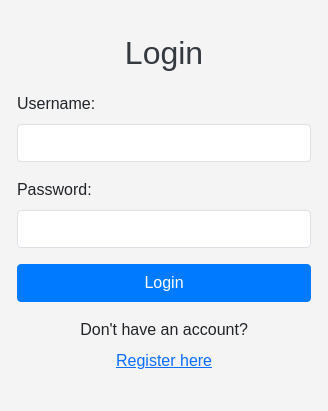
Scenario: should show an error message when registration fails
The image size is (328, 411).
Click the button "Register here".
click(164, 361)  # box [17, 342, 311, 380]
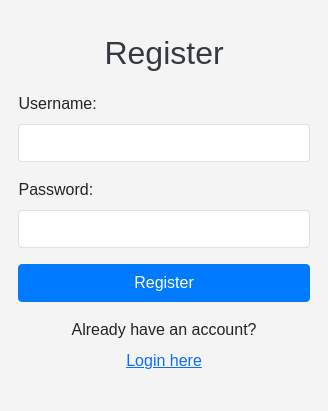
Type "testuser" into the field labelled "Username:".
click(164, 143); type("testuser")  # box [18, 124, 310, 162]
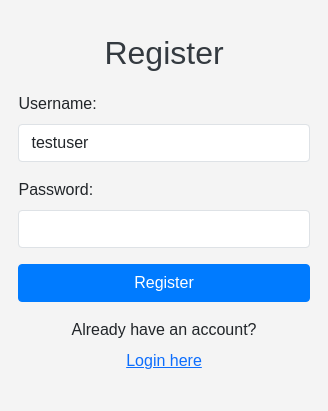
Type "password123" into the password field labelled "Password:".
click(164, 229); type("password123")  # box [18, 210, 310, 248]
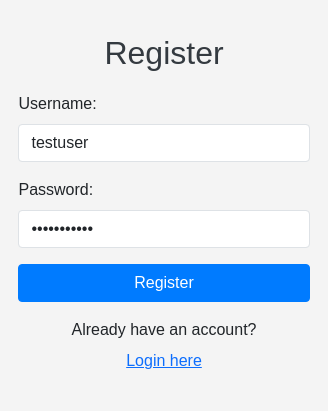
Click the button "Register".
click(164, 283)  # box [18, 264, 310, 302]
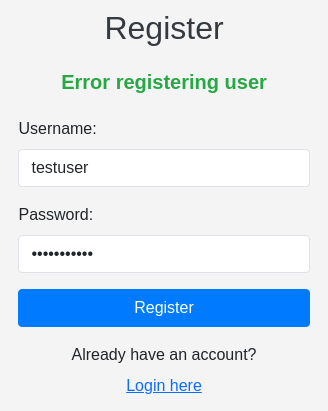
expect the text "Error registering user" is shown: met, box [61, 71, 267, 93]
